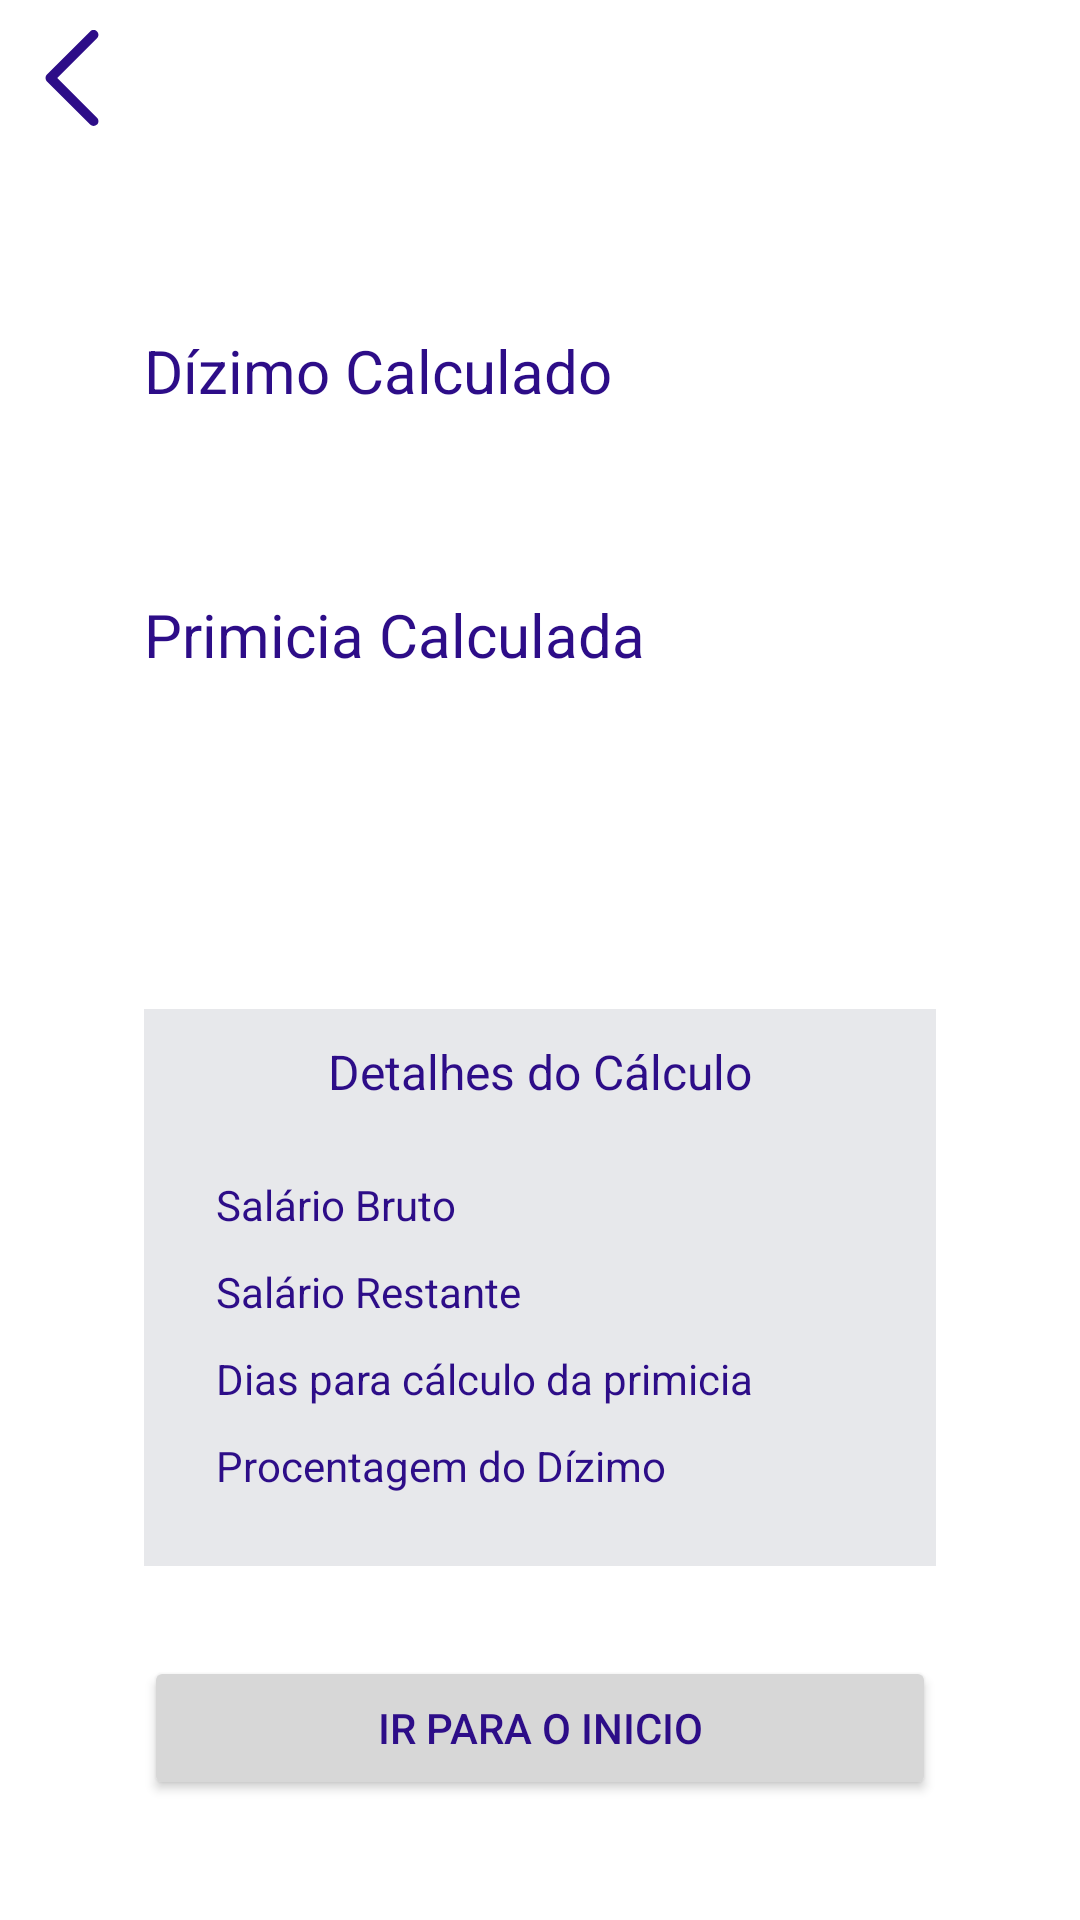

Named icons in this screenshot (1080 x 1920) and their bounding boxes, (x1, y1, x2, y2):
back: (45, 30, 99, 126)
